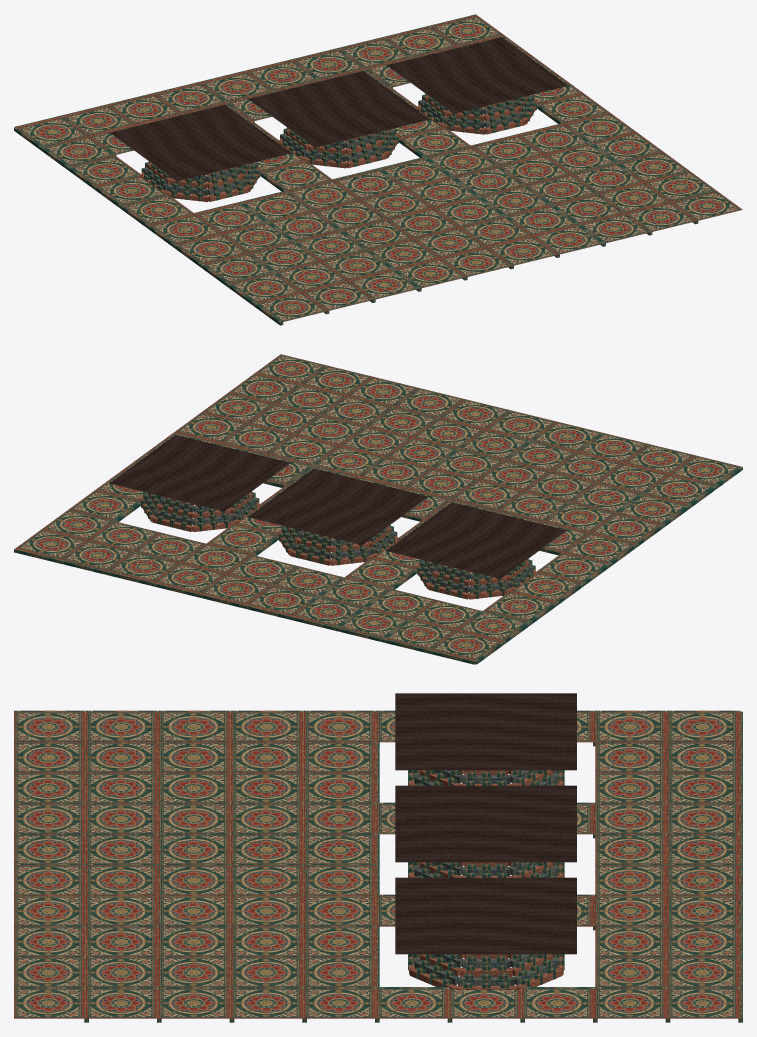
Rendered from hall_ceiling.glb.
3 views of the same model, one above another, from view 1: azimuth 30°, elevation 25°; view 2: azimuth 150°, elevation 25°; view 3: azimuth 270°, elevation 25° (orthographic). The views are drawn at different scales.
Visible parts, largest first — view 1: hall_ceiling0; view 2: hall_ceiling0; view 3: hall_ceiling0.
Part boxes in pixels (bbox=[...]): hall_ceiling0: bbox=[14, 14, 742, 325]; hall_ceiling0: bbox=[14, 354, 742, 664]; hall_ceiling0: bbox=[14, 693, 742, 1022].
Size of the model in its own units: 20.06 by 1.39 by 20.06.
1 material, 1 textured.
